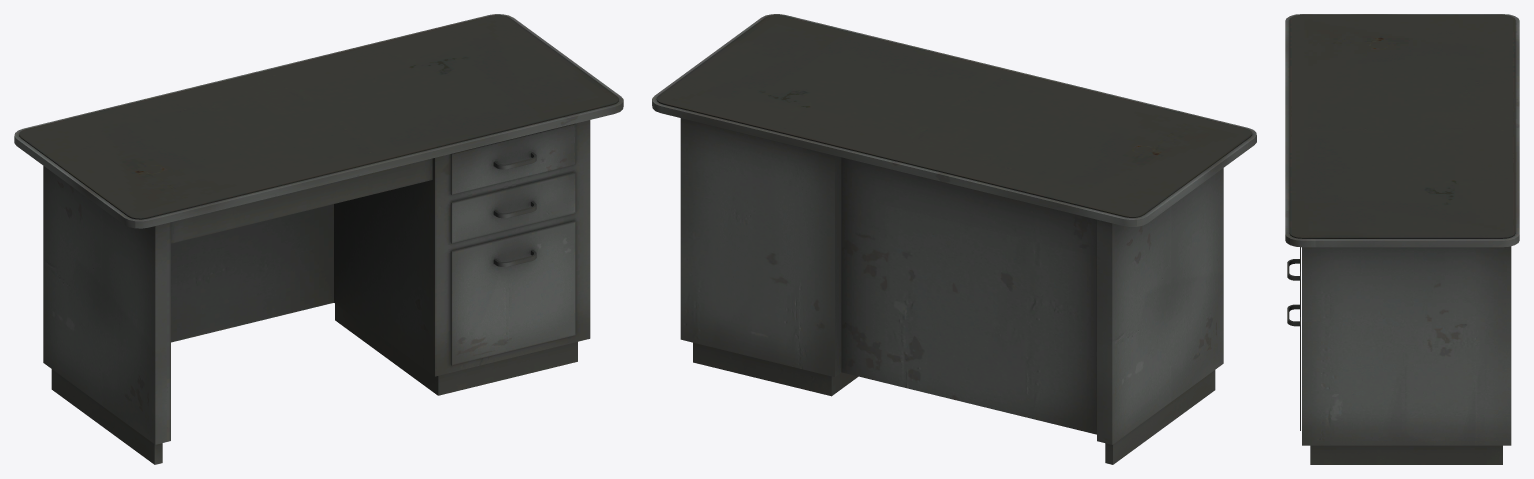
The model's file is desk2.glb.
3 renders of one model, left to right at view 1: azimuth 30°, elevation 25°; view 2: azimuth 150°, elevation 25°; view 3: azimuth 270°, elevation 25°, orthographic. The views are drawn at different scales.
Visible parts, largest first — view 1: metal_desk; view 2: metal_desk; view 3: metal_desk.
Boxes of the visible parts, x1=… form: metal_desk: x1=14, y1=14, x2=623, y2=464; metal_desk: x1=652, y1=14, x2=1256, y2=464; metal_desk: x1=1285, y1=14, x2=1519, y2=464.
Bounding box in the file's own units: 1.6 × 0.8 × 0.7.
1 material, 1 textured.
